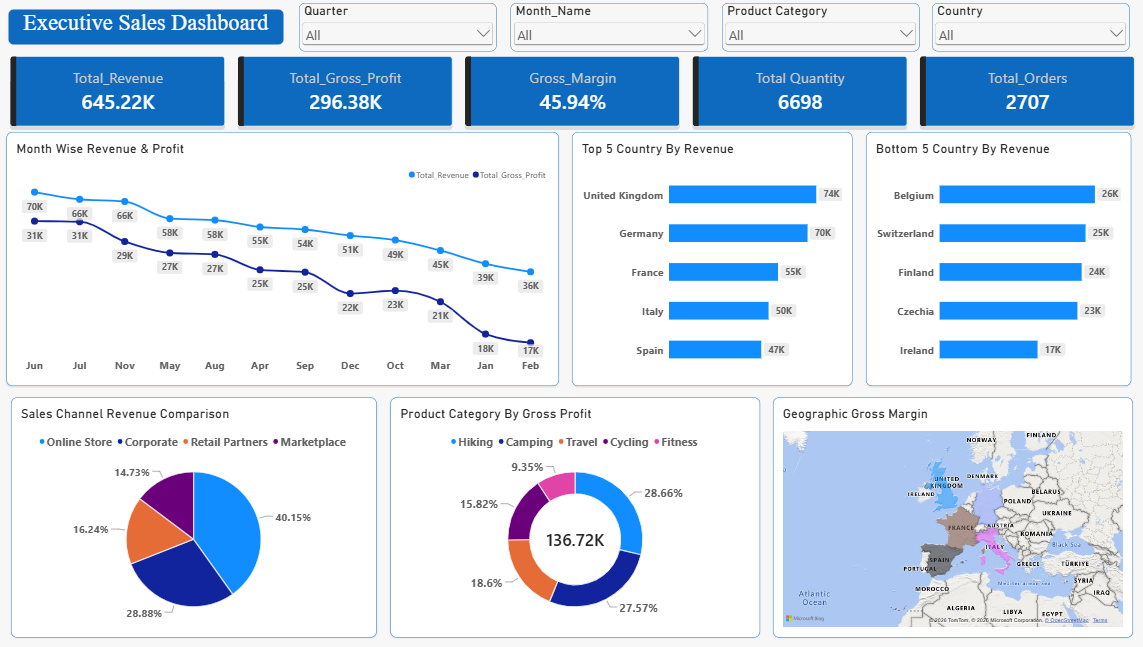

This screenshot's page, from the dashboard's own definition file:
{"tool":"powerbi","page":{"name":"Page 1","canvas":[1920,1080],"ordinal":0},"visuals":[{"type":"slicer","fields":{"Values":["Date_Table.Quarter"]},"box":[504.9,4.9,329.3,80.5],"z":0,"group":"g1"},{"type":"cardVisual","fields":{"Data":["All_Measures.Total_Revenue","All_Measures.Total_Gross_Profit","All_Measures.Gross_Margin","All_Measures.Total Quantity","All_Measures.Total_Orders"]},"box":[14.6,85.4,1892.7,134.1],"z":0},{"type":"slicer","fields":{"Values":["Date_Table.Month_Name"]},"box":[856.9,4.9,329.3,80.5],"z":1000,"group":"g1"},{"type":"pieChart","title":"Sales Channel Revenue Comparison","fields":{"Category":["Sales_Data.Sales Channel"],"Y":["All_Measures.Total_Revenue"]},"box":[24,662.8,609.3,400],"z":1000},{"type":"slicer","fields":{"Values":["Sales_Data.Product Category"]},"box":[1209,4.9,329.3,80.5],"z":2000,"group":"g1"},{"type":"textbox","box":[20,15,460,60],"z":2000},{"type":"slicer","fields":{"Values":["Sales_Data.Country"]},"box":[1561,4.9,329.3,80.5],"z":3000,"group":"g1"},{"type":"donutChart","title":"Product Category By Gross Profit","fields":{"Category":["Sales_Data.Product Category"],"Y":["All_Measures.Total_Gross_Profit"]},"box":[656.5,662.8,616.3,400],"z":3000},{"type":"group","id":"g1","title":"Group 1","box":[504.9,4.9,1385.4,80.5],"z":4000},{"type":"filledMap","title":"Geographic Gross Margin","fields":{"Category":["Sales_Data.Country"],"Series":["Sales_Data.Gross Margin %"]},"box":[1296,662.8,600,400],"z":5000},{"type":"lineChart","title":"Month Wise Revenue & Profit","fields":{"Category":["Date_Table.Month_Name"],"Y":["All_Measures.Total_Revenue"],"Y2":["All_Measures.Total_Gross_Profit"]},"box":[18.6,220.9,920.9,423.3],"z":6000},{"type":"clusteredBarChart","title":"Top 5 Country By Revenue","fields":{"Category":["Sales_Data.Country"],"Y":["All_Measures.Total_Revenue"]},"box":[960.5,220.9,467.4,423.3],"z":7000},{"type":"clusteredBarChart","title":"Bottom 5 Country By Revenue","fields":{"Category":["Sales_Data.Country"],"Y":["All_Measures.Total_Revenue"]},"box":[1448.8,220.9,441.9,423.3],"z":8000}]}

Visuals, with their boxes in screenshot pixels (x1, y1, x2, y2), scaled from the page's 1920x1080 canvas onto the 1143x647 screenshot:
slicer - Date_Table.Quarter: pyautogui.locateOnScreen(301, 3, 497, 51)
cardVisual - All_Measures.Total_Revenue x All_Measures.Total_Gross_Profit: pyautogui.locateOnScreen(9, 51, 1135, 131)
slicer - Date_Table.Month_Name: pyautogui.locateOnScreen(510, 3, 706, 51)
"Sales Channel Revenue Comparison" pieChart: pyautogui.locateOnScreen(14, 397, 377, 637)
slicer - Sales_Data.Product Category: pyautogui.locateOnScreen(720, 3, 916, 51)
textbox: pyautogui.locateOnScreen(12, 9, 286, 45)
slicer - Sales_Data.Country: pyautogui.locateOnScreen(929, 3, 1125, 51)
"Product Category By Gross Profit" donutChart: pyautogui.locateOnScreen(391, 397, 758, 637)
"Group 1" group: pyautogui.locateOnScreen(301, 3, 1125, 51)
"Geographic Gross Margin" filledMap: pyautogui.locateOnScreen(772, 397, 1129, 637)
"Month Wise Revenue & Profit" lineChart: pyautogui.locateOnScreen(11, 132, 559, 386)
"Top 5 Country By Revenue" clusteredBarChart: pyautogui.locateOnScreen(572, 132, 850, 386)
"Bottom 5 Country By Revenue" clusteredBarChart: pyautogui.locateOnScreen(862, 132, 1126, 386)
